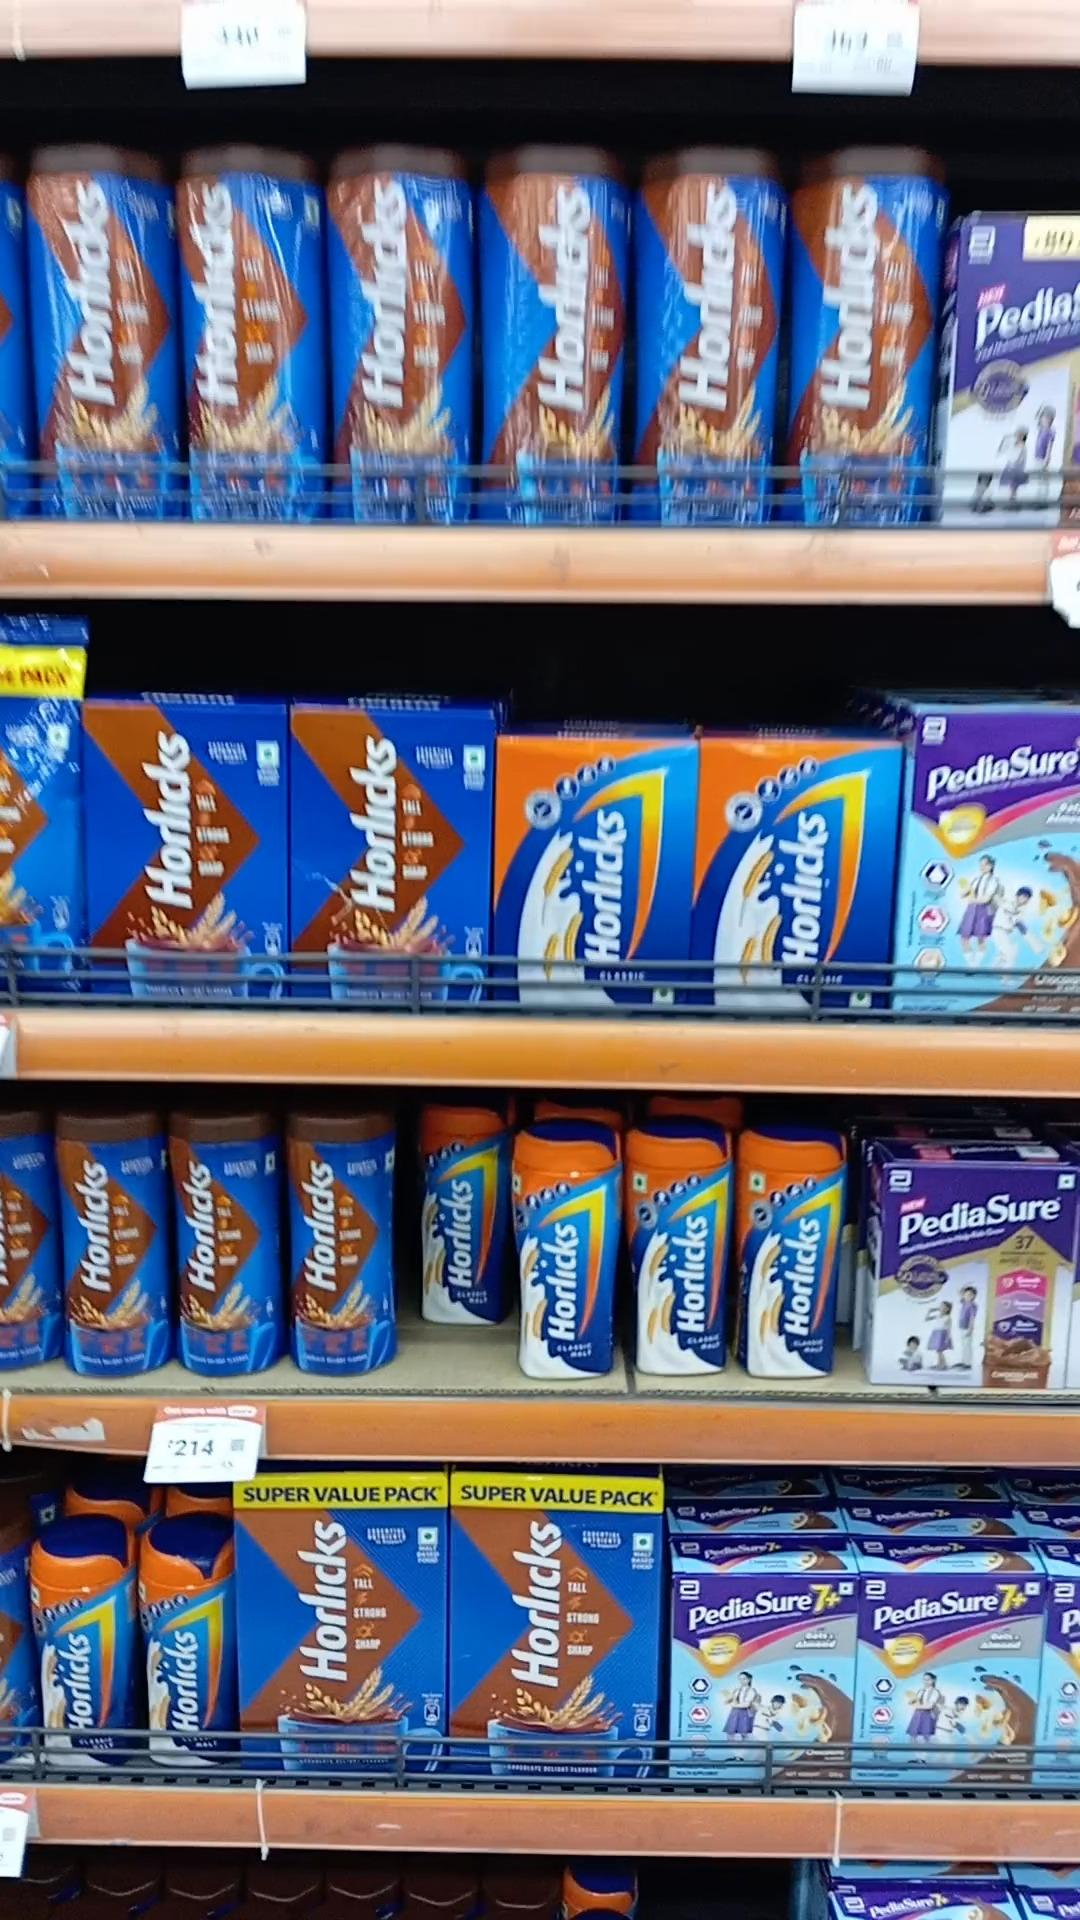HORLICK_CHOCOLATE_1_KG_JAR: (326, 137, 472, 522), (633, 144, 777, 527), (480, 146, 625, 526), (179, 142, 322, 517), (32, 141, 171, 518), (793, 145, 924, 522)
HORLICK_CHOCOLATE_1_KG_PACK: (451, 1474, 658, 1780), (239, 1480, 443, 1771)
HORLICK_CHOCOLATE_500_G_JAR: (59, 1113, 167, 1373), (285, 1110, 393, 1369), (177, 1114, 281, 1371)
HORLICK_CHOCOLATE_500_G_PACK: (289, 708, 488, 1001), (84, 703, 282, 997)
HORLICK_CLASSIC_MALT_500_G_JAR: (513, 1117, 613, 1385), (622, 1124, 728, 1377), (30, 1518, 129, 1768), (138, 1518, 235, 1766), (737, 1129, 831, 1377), (415, 1104, 502, 1325)
HORLICK_CLASSIC_MALT_500_G_PACK: (700, 737, 885, 1014), (493, 740, 687, 1002)
PEDIASURE_7_PLUS_CHOCOLATE_400_G_PACK: (861, 1569, 1042, 1784), (675, 1577, 853, 1787)
PEDIASURE_CHOCOLATE_500_G_PACK: (906, 712, 1080, 1015), (877, 1160, 1062, 1387)
